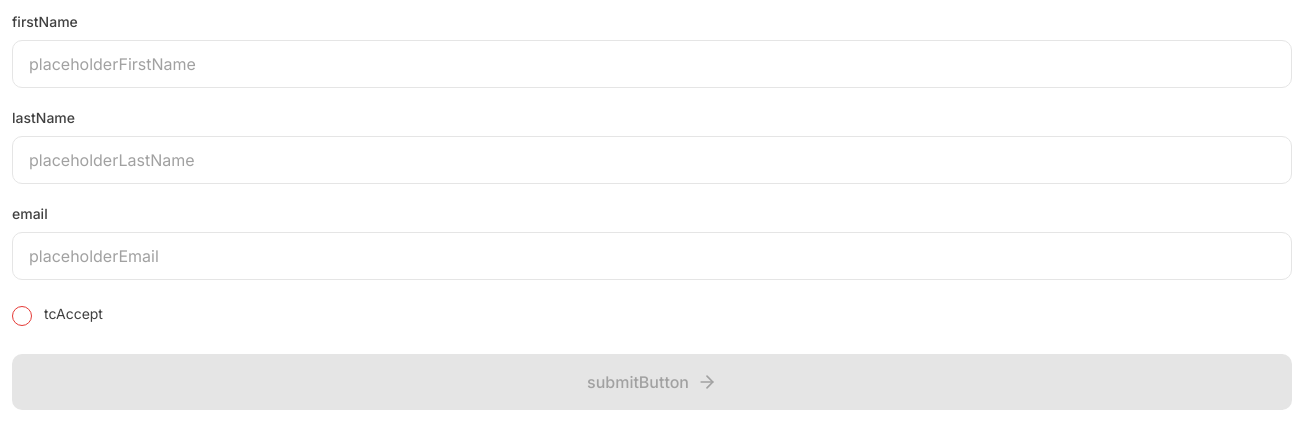
SimpleForm — T&C checkbox / submit button integration › submit button disables again when checkbox is unticked
The width and height of the screenshot is (1304, 427).
In the field labelled "firstName": (652, 64) x1=12 y1=40 x2=1292 y2=88, type "Alice"
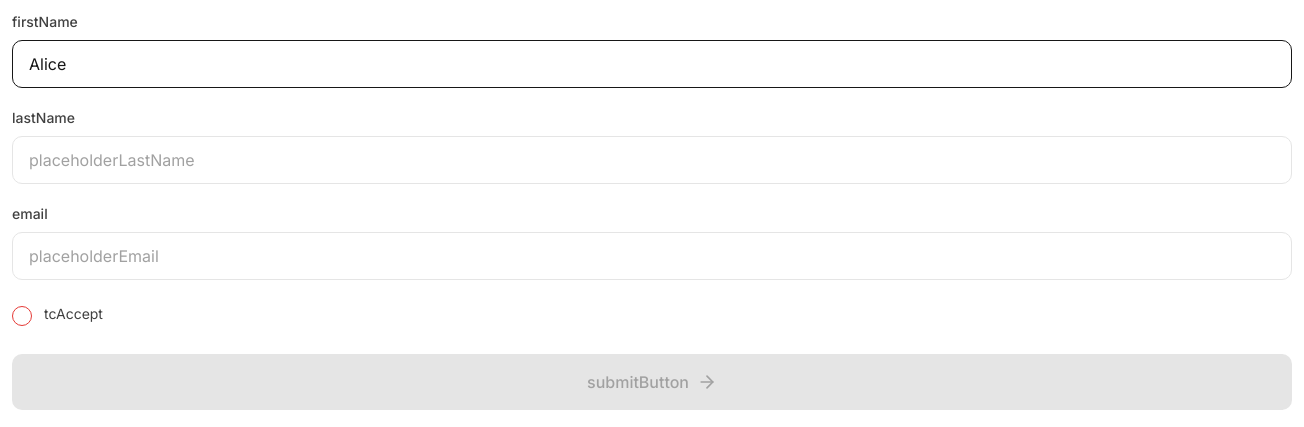
In the field labelled "lastName": (652, 160) x1=12 y1=136 x2=1292 y2=184, type "Dupont"
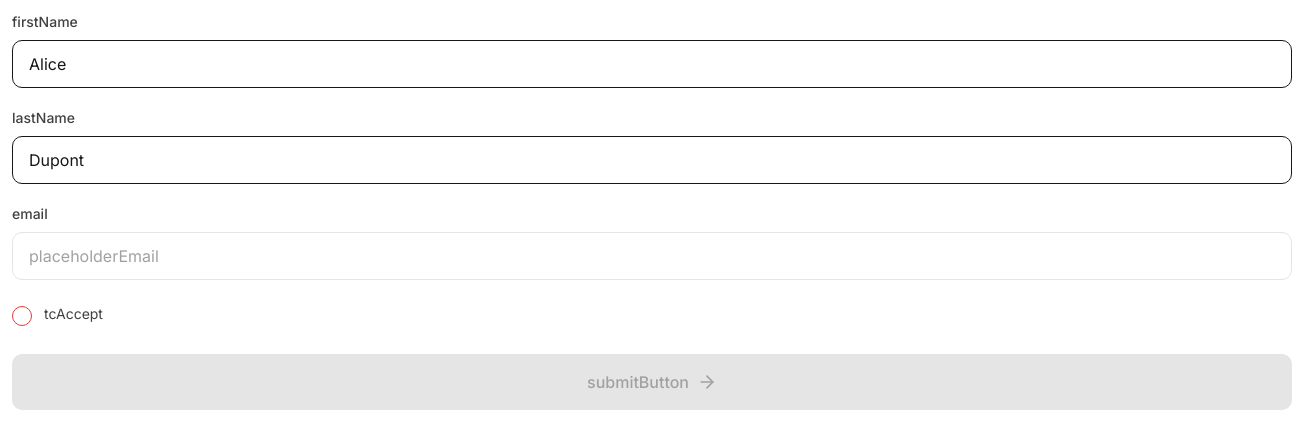
In the field labelled "email": (652, 256) x1=12 y1=232 x2=1292 y2=280, type "alice@example.com"
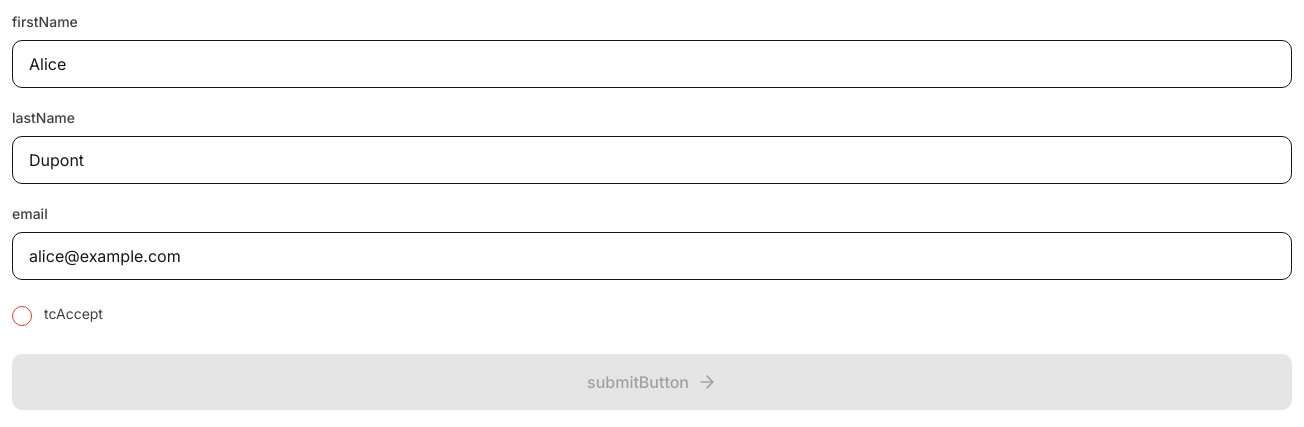
Click the checkbox: (22, 316) x1=12 y1=306 x2=32 y2=326
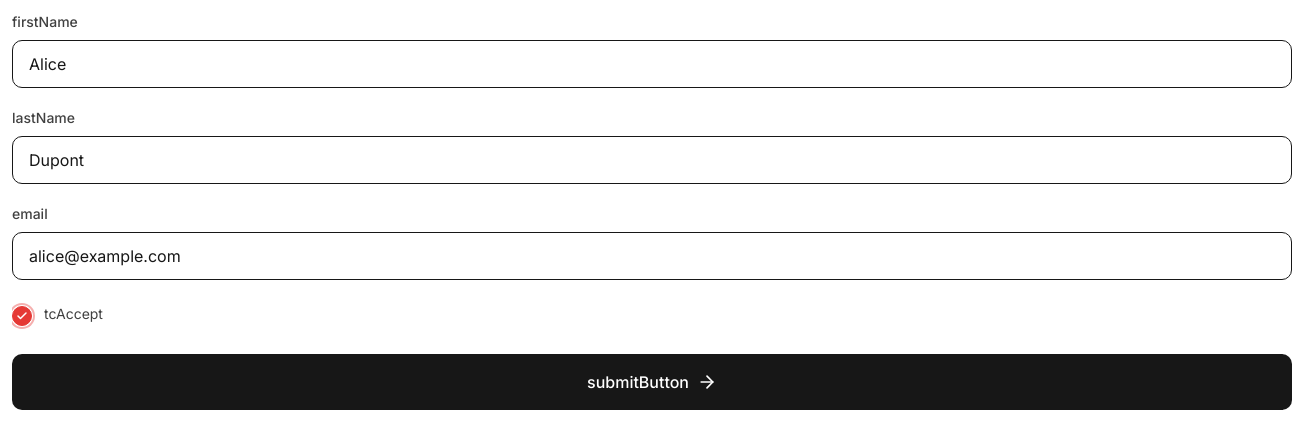
Result: the button "submitButton" is enabled at x1=12 y1=354 x2=1292 y2=410
Click the checkbox: (22, 316) x1=12 y1=306 x2=32 y2=326
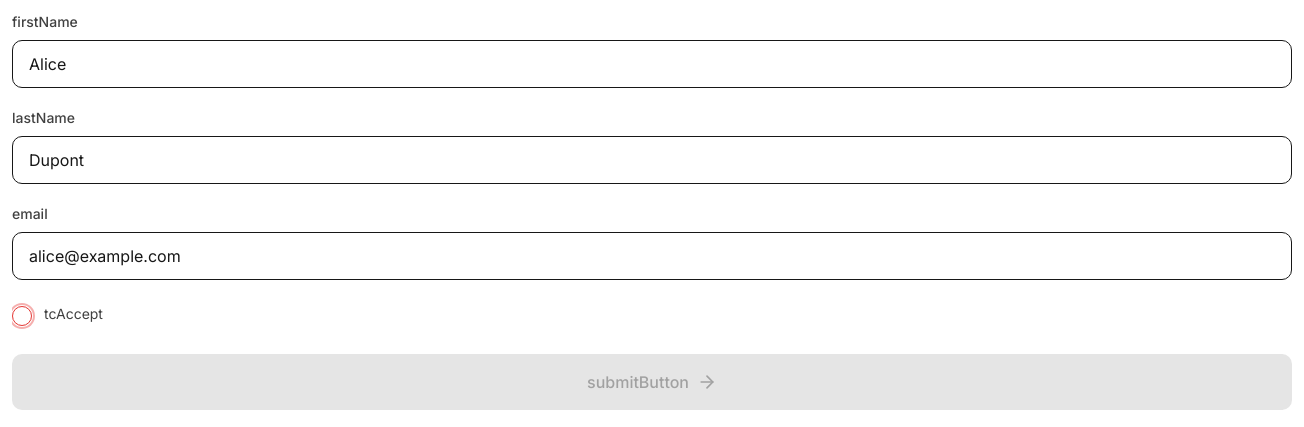
Result: the button "submitButton" is disabled at x1=12 y1=354 x2=1292 y2=410
